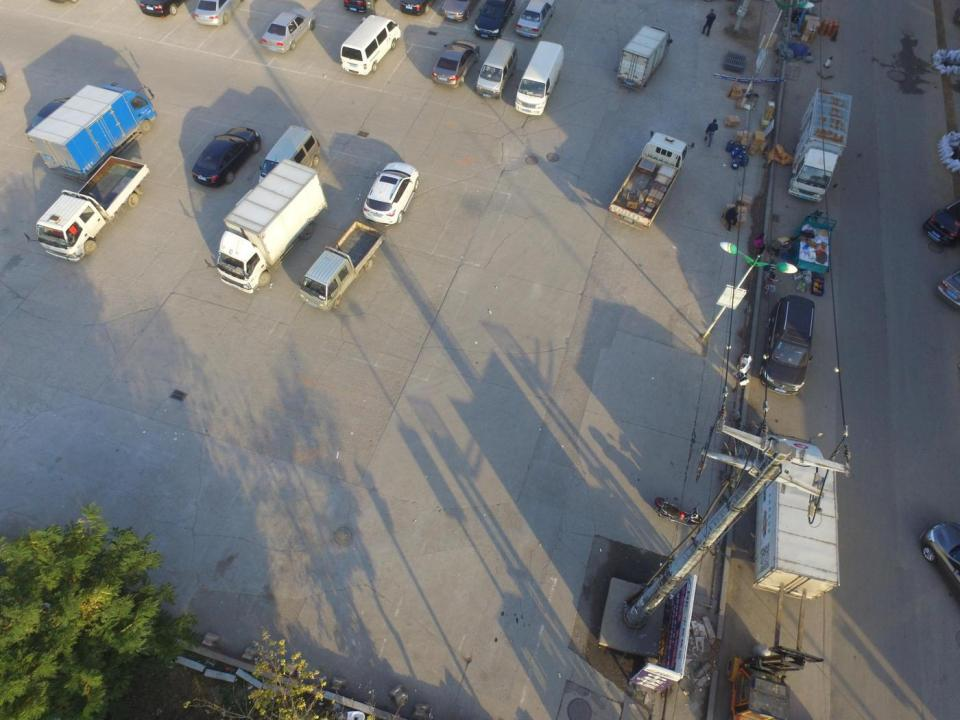car: (763, 294, 815, 395), (189, 126, 260, 187), (364, 162, 418, 227), (921, 521, 959, 606), (25, 98, 90, 134), (262, 8, 315, 52), (433, 40, 479, 87), (922, 194, 959, 248), (473, 0, 514, 39), (516, 0, 554, 37), (194, 1, 241, 26), (439, 0, 474, 22)
truck: (217, 161, 327, 294), (749, 433, 838, 597), (26, 82, 156, 182), (34, 156, 148, 262), (300, 221, 386, 311), (610, 131, 688, 227), (789, 88, 852, 202), (340, 15, 401, 76), (618, 25, 671, 90)
van: (262, 126, 320, 188), (515, 41, 563, 115), (476, 40, 518, 101)
